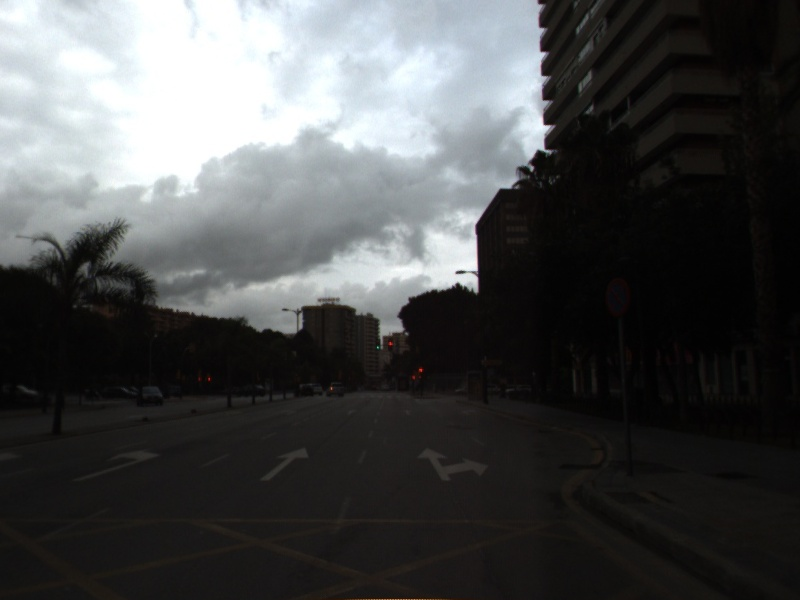LEFT: (70, 447, 162, 483)
STRAIGHT: (256, 445, 311, 483)
STRAIGHT_RIGHT: (415, 446, 491, 484)
